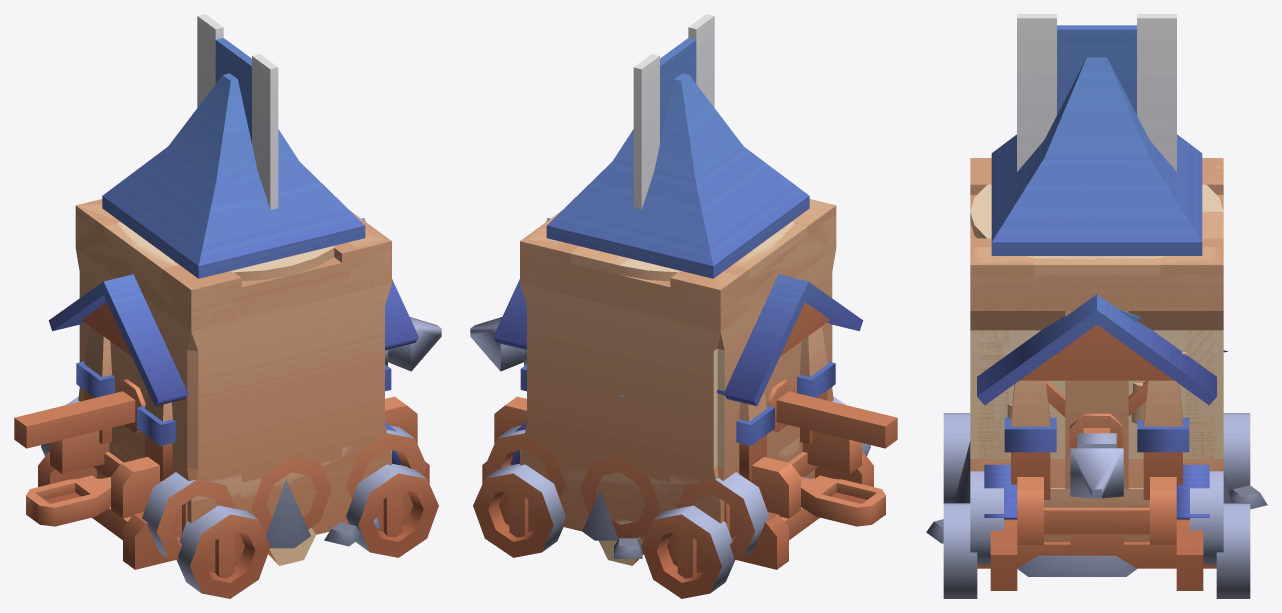
The model's file is castelo.glb.
3 renders of one model, left to right at view 1: azimuth 30°, elevation 25°; view 2: azimuth 150°, elevation 25°; view 3: azimuth 270°, elevation 25°, orthographic. The views are drawn at different scales.
Visible parts, largest first — view 1: tower-square-roof, wall, siege-ram, wheel_3 (×2), wall-corner, flag-banner-long, wheel_2, wall-doorway, ram, catapult, siege-catapult, tower-square-base (+8 smaller); view 2: tower-square-roof, wall, siege-ram, wheel_1 (×2), wheel (×2), wall-corner, flag-banner-long, ram, wheel_2, tower-square-base, wall-pillar, catapult (+7 smaller); view 3: tower-square-roof, siege-ram, flag-banner-long, wall, siege-catapult, tower-square-base, wall-pillar, wall-corner, wheel (×2), rocks-large, ram, wheel_1 (+7 smaller).
Boxes of the visible parts, box(x1,y1,x2,y2) form: tower-square-roof: box(75, 73, 391, 331); wall: box(76, 200, 391, 501); siege-ram: box(48, 218, 418, 518); wheel_3 (×2): box(142, 463, 438, 560); wall-corner: box(75, 207, 391, 517); flag-banner-long: box(197, 14, 278, 209); wheel_2: box(176, 505, 270, 598); wall-doorway: box(76, 200, 286, 501); ram: box(14, 317, 441, 448); catapult: box(26, 477, 110, 526); siege-catapult: box(38, 422, 429, 569); tower-square-base: box(97, 447, 391, 534); tower-square-roof: box(520, 73, 836, 331); wall: box(520, 215, 836, 506); siege-ram: box(493, 218, 863, 518); wheel_1 (×2): box(473, 456, 660, 557); wheel (×2): box(485, 425, 735, 598); wall-corner: box(520, 210, 836, 505); flag-banner-long: box(633, 14, 714, 209); ram: box(470, 317, 897, 448); wheel_2: box(676, 472, 769, 560); tower-square-base: box(520, 449, 814, 544); wall-pillar: box(523, 199, 835, 478); catapult: box(801, 477, 885, 526); tower-square-roof: box(970, 57, 1223, 330); siege-ram: box(977, 294, 1216, 544); flag-banner-long: box(1017, 14, 1176, 171); wall: box(970, 158, 1223, 487); siege-catapult: box(977, 464, 1216, 590); tower-square-base: box(976, 330, 1216, 507); wall-pillar: box(970, 158, 1223, 507); wall-corner: box(970, 158, 1223, 487); wheel (×2): box(1190, 413, 1250, 564); rocks-large: box(926, 441, 1267, 576); ram: box(1070, 428, 1123, 498); wheel_1: box(1216, 503, 1250, 598).
Size of the model in its own units: 2.09 by 2.32 by 1.35.
Materials: 1 (1 with a texture image).
